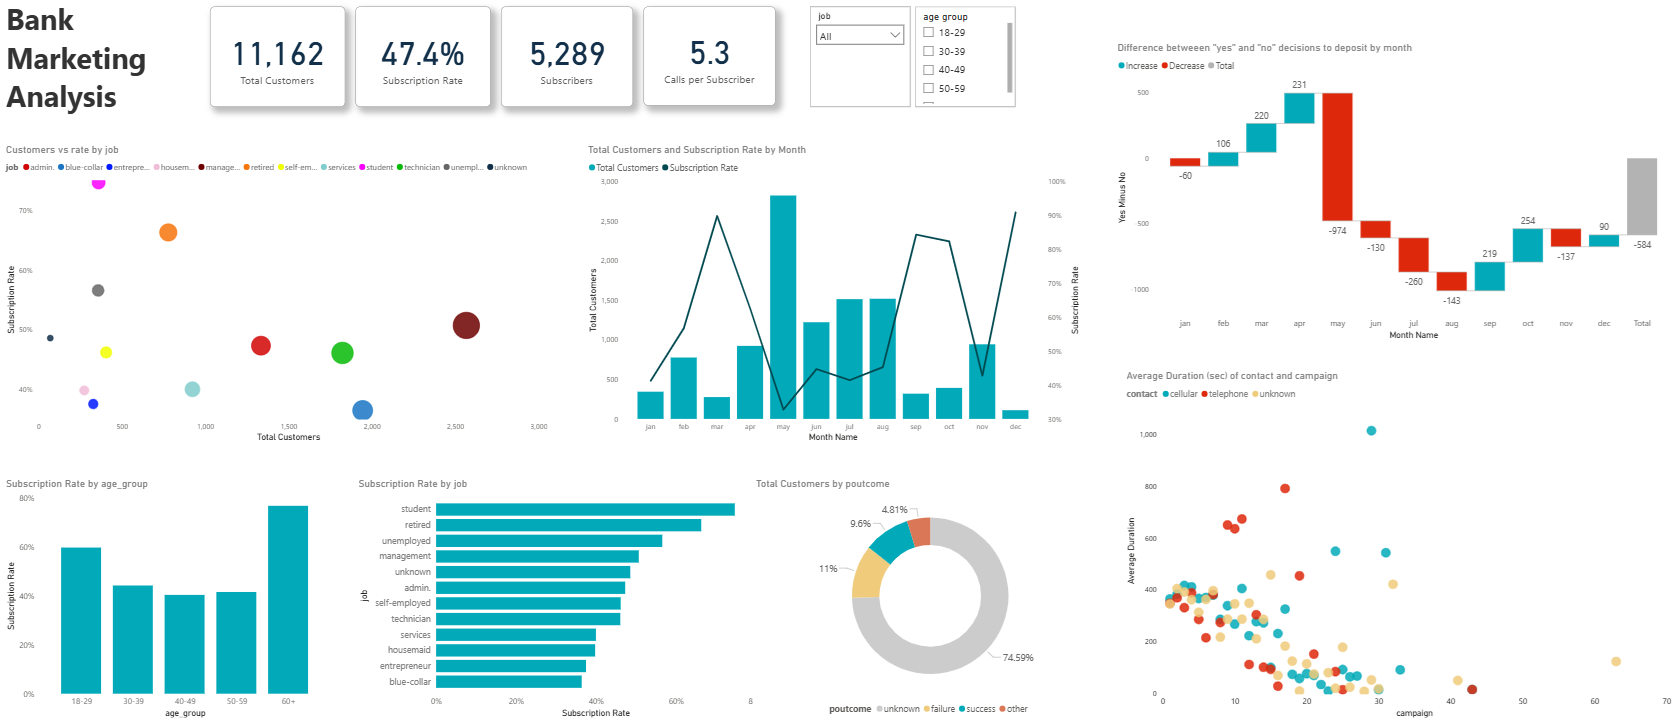

The page's visual inventory and layout, read from the dashboard file:
{"tool":"powerbi","page":{"name":"Page 1","canvas":[3001,2000],"ordinal":0},"visuals":[{"type":"card","fields":{"Values":["bank.Subscribers"]},"box":[370.5,75,179.5,113.6],"z":0},{"type":"card","fields":{"Values":["bank.Subscription Rate"]},"box":[184.1,75,179.5,113.6],"z":1000},{"type":"clusteredColumnChart","fields":{"Category":["bank.age_group"],"Y":["bank.Subscription Rate"]},"box":[15.9,570.5,531.8,404.5],"z":2000},{"type":"clusteredBarChart","fields":{"Category":["bank.job"],"Y":["bank.Subscription Rate"]},"box":[1315.9,570.5,781.8,404.5],"z":3000},{"type":"lineClusteredColumnComboChart","title":"Total Customers and Subscription Rate by Month","fields":{"Y":["bank.Total Customers"],"Y2":["bank.Subscription Rate"],"Category":["bank.Month Name"]},"box":[568.2,570.5,702.3,404.5],"z":4000},{"type":"donutChart","fields":{"Category":["bank.poutcome"],"Y":["bank.Total Customers"]},"box":[0,218.2,500,302.3],"z":5000},{"type":"scatterChart","title":"Customers vs rate by job","fields":{"Category":["bank.job"],"X":["bank.Total Customers"],"Y":["bank.Subscription Rate"],"Size":["bank.Subscribers"],"Series":["bank.job"]},"box":[1190.9,75,915.9,445.5],"z":6000},{"type":"card","fields":{"Values":["bank.Total Customers"]},"box":[6.8,75,170.5,111.4],"z":7000},{"type":"pieChart","fields":{"Category":["bank.deposit"],"Y":["bank.Total Customers","select"]},"box":[568.2,218.2,554.5,302.3],"z":8000},{"type":"card","fields":{"Values":["bank.Calls per Subscriber"]},"box":[554.5,75,179.5,111.4],"z":9000},{"type":"slicer","fields":{"Values":["bank.job"]},"box":[745.5,75,165.9,113.6],"z":10000},{"type":"slicer","fields":{"Values":["bank.age_group"]},"box":[920.5,75,247.7,113.6],"z":11000},{"type":"treemap","fields":{"Group":["bank.contact"],"Values":["bank.Total Customers"]},"box":[2106.8,570.5,452.3,404.5],"z":12000},{"type":"slicer","fields":{"Values":["bank.Month Name"]},"box":[2136.4,75,422.7,445.5],"z":13000},{"type":"textbox","box":[2569,75,423,445],"z":13001},{"type":"textbox","box":[0,0,2570,55],"z":13002}]}

Visuals, with their boxes on the page's 3001x2000 design canvas (x1, y1, x2, y2). These are canvas units, not pixel positions in the 1675x723 screenshot, which may show the page scaled, cropped or inside an application window:
card - bank.Subscribers: {"left": 370, "top": 75, "right": 550, "bottom": 189}
card - bank.Subscription Rate: {"left": 184, "top": 75, "right": 364, "bottom": 189}
clusteredColumnChart - bank.age_group x bank.Subscription Rate: {"left": 16, "top": 570, "right": 548, "bottom": 975}
clusteredBarChart - bank.job x bank.Subscription Rate: {"left": 1316, "top": 570, "right": 2098, "bottom": 975}
"Total Customers and Subscription Rate by Month" lineClusteredColumnComboChart: {"left": 568, "top": 570, "right": 1270, "bottom": 975}
donutChart - bank.poutcome x bank.Total Customers: {"left": 0, "top": 218, "right": 500, "bottom": 520}
"Customers vs rate by job" scatterChart: {"left": 1191, "top": 75, "right": 2107, "bottom": 520}
card - bank.Total Customers: {"left": 7, "top": 75, "right": 177, "bottom": 186}
pieChart - bank.deposit x bank.Total Customers: {"left": 568, "top": 218, "right": 1123, "bottom": 520}
card - bank.Calls per Subscriber: {"left": 554, "top": 75, "right": 734, "bottom": 186}
slicer - bank.job: {"left": 746, "top": 75, "right": 911, "bottom": 189}
slicer - bank.age_group: {"left": 920, "top": 75, "right": 1168, "bottom": 189}
treemap - bank.contact x bank.Total Customers: {"left": 2107, "top": 570, "right": 2559, "bottom": 975}
slicer - bank.Month Name: {"left": 2136, "top": 75, "right": 2559, "bottom": 520}
textbox: {"left": 2569, "top": 75, "right": 2992, "bottom": 520}
textbox: {"left": 0, "top": 0, "right": 2570, "bottom": 55}
